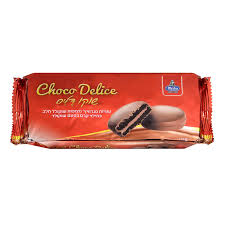Chocolate: (8, 71, 216, 166)
